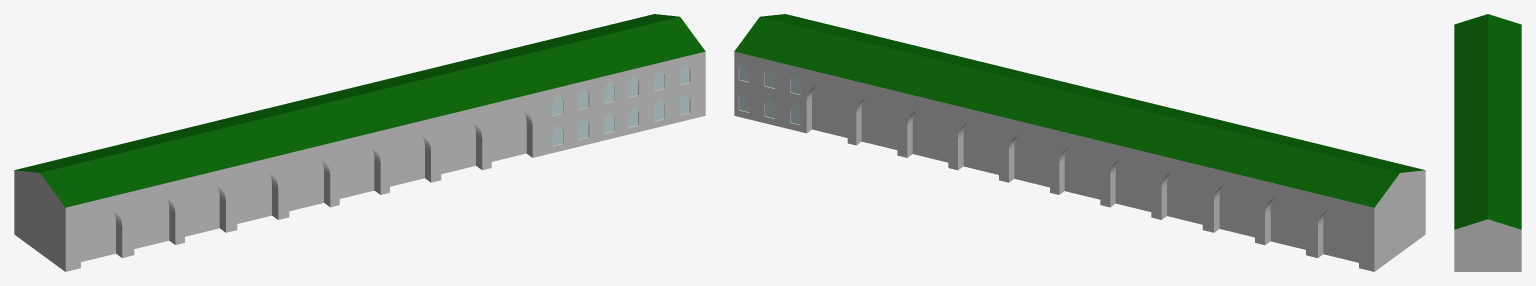
The model's file is six.gltf.
3 views of the same model, side by side, from view 1: azimuth 30°, elevation 25°; view 2: azimuth 150°, elevation 25°; view 3: azimuth 270°, elevation 25° (orthographic). The views are drawn at different scales.
Visible parts, largest first — view 1: Cube.020; view 2: Cube.020; view 3: Cube.020.
Part boxes in pixels (left/top/right/bottom): Cube.020: left=14, top=14, right=705, bottom=271; Cube.020: left=734, top=14, right=1425, bottom=271; Cube.020: left=1454, top=14, right=1521, bottom=271.
Size of the model in its own units: 3.63 by 0.4348 by 0.5033.
